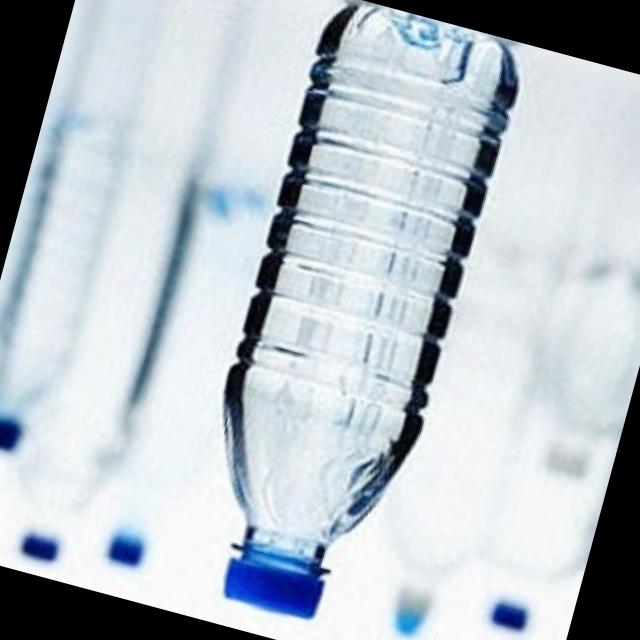BotolPlastik: (166, 0, 531, 640)
